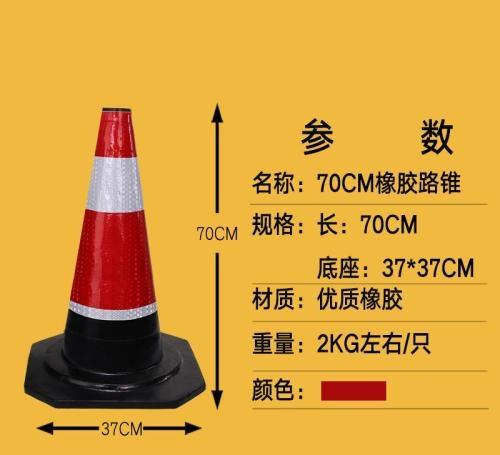cone_barrel: (40, 109, 180, 397)
